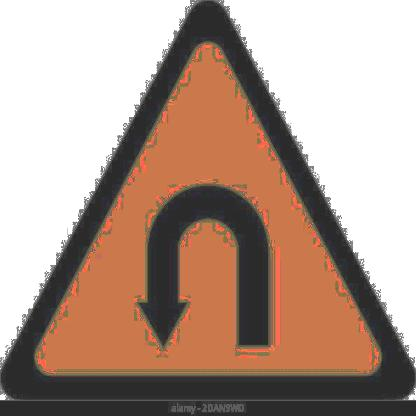U-turn: (8, 0, 416, 398)
